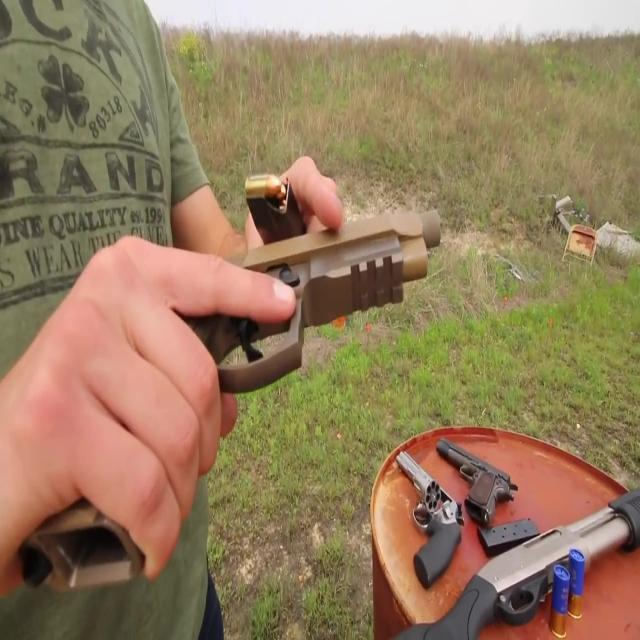Weapon: (7, 128, 640, 640)
